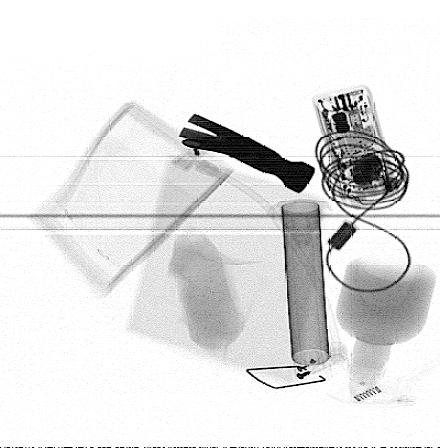Hammer: (178, 112, 314, 193)
